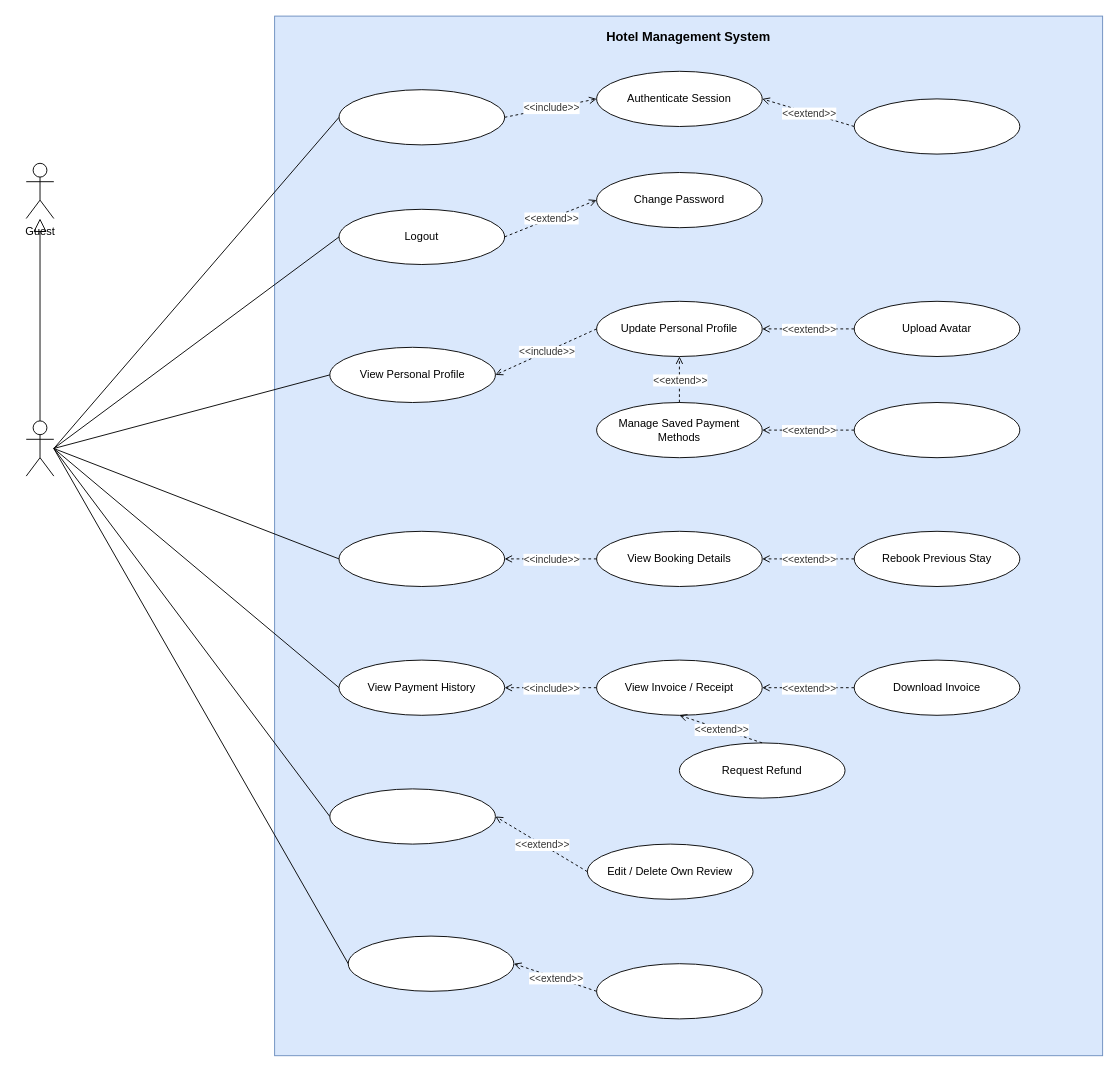
This 1119x1072 diagram has some shape labels left out. Here are the shapes that lost their labels. From the top down, the centre of each, then its label:
the point at 421,117: Login
the point at 936,126: Reset Forgotten Password
the point at 39,448: Customer
the point at 936,430: Manage Notification Preferences
the point at 421,558: View Booking History
the point at 412,816: Write Review
the point at 430,963: View Loyalty Points / Membership
the point at 679,991: Redeem Loyalty Points
